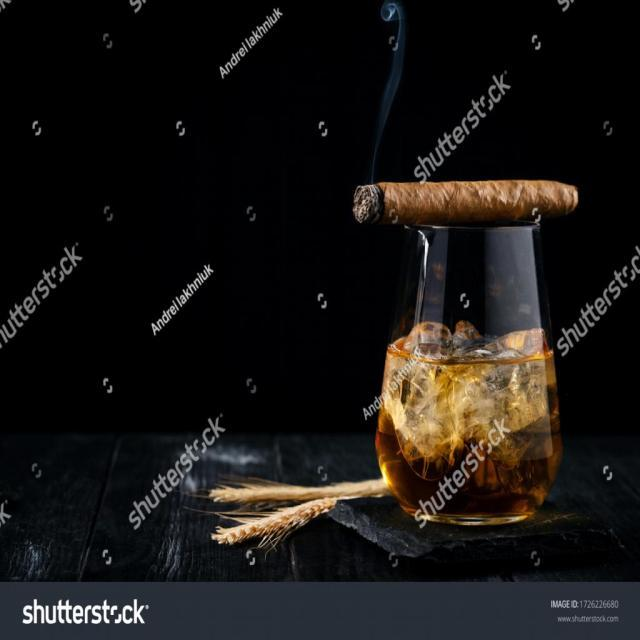smoking: (353, 178, 581, 231)
